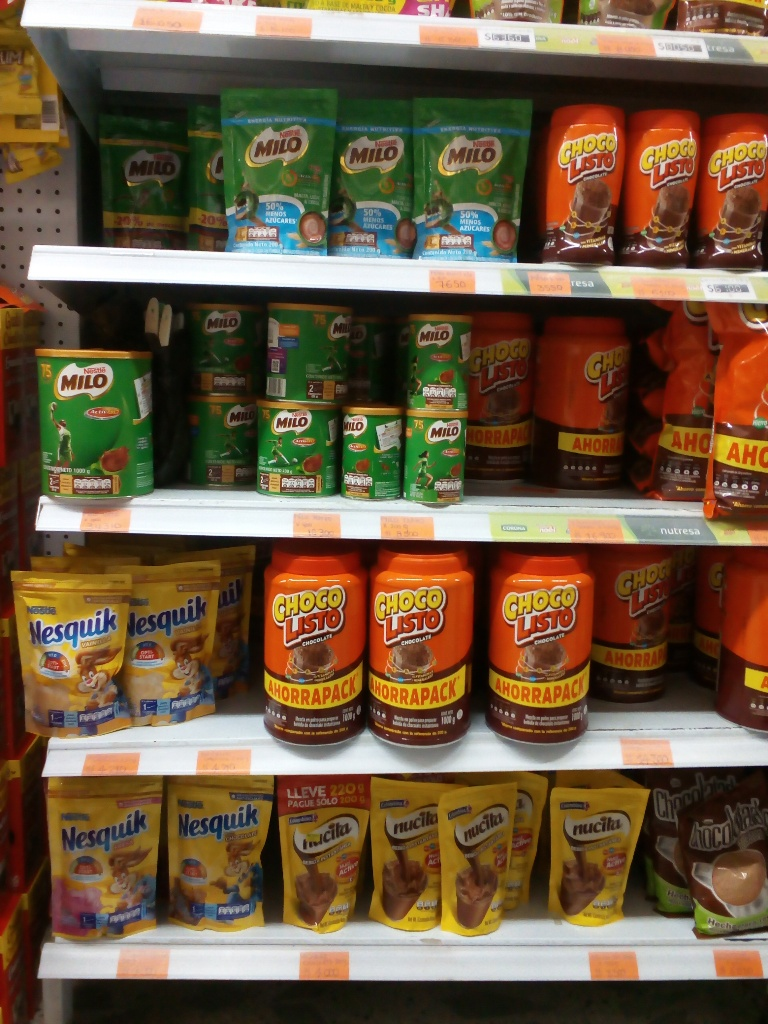COL0170103TRR00100: (469, 306, 544, 495)
COL0170103TRR30000: (539, 90, 621, 263)
COL0170203DYP25000: (80, 91, 182, 248)
COL0170203LAT20000: (401, 318, 471, 416)
COL0170203LAT40000: (257, 406, 339, 497)
COL0170205DYP20000: (215, 86, 332, 250)
COL0170305DYP20000: (35, 782, 163, 937)
COL0170306DYP20000: (13, 549, 122, 733)
